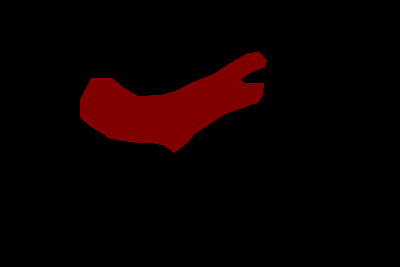fire: (80, 51, 266, 152)
